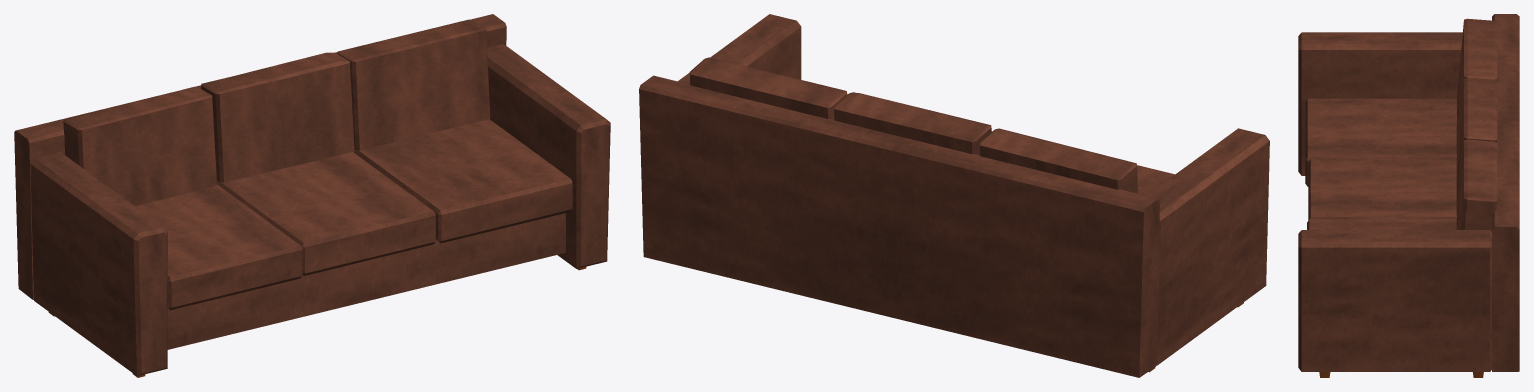
The model's file is couch_large_red.obj.
3 renders of one model, left to right at view 1: azimuth 30°, elevation 25°; view 2: azimuth 150°, elevation 25°; view 3: azimuth 270°, elevation 25°, orthographic. The views are drawn at different scales.
Visible parts, largest first — view 1: couch_large_red; view 2: couch_large_red; view 3: couch_large_red.
Part boxes in pixels (x1,y1,x2,y2): couch_large_red: [14, 14, 610, 377]; couch_large_red: [639, 14, 1269, 377]; couch_large_red: [1298, 14, 1519, 377].
Size of the model in its own units: 3.16 by 1.19 by 1.39.
